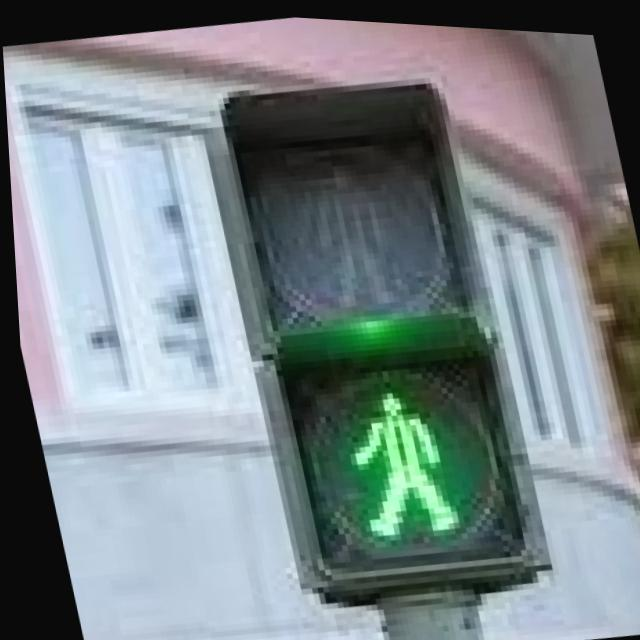green_light: (298, 343, 476, 565)
